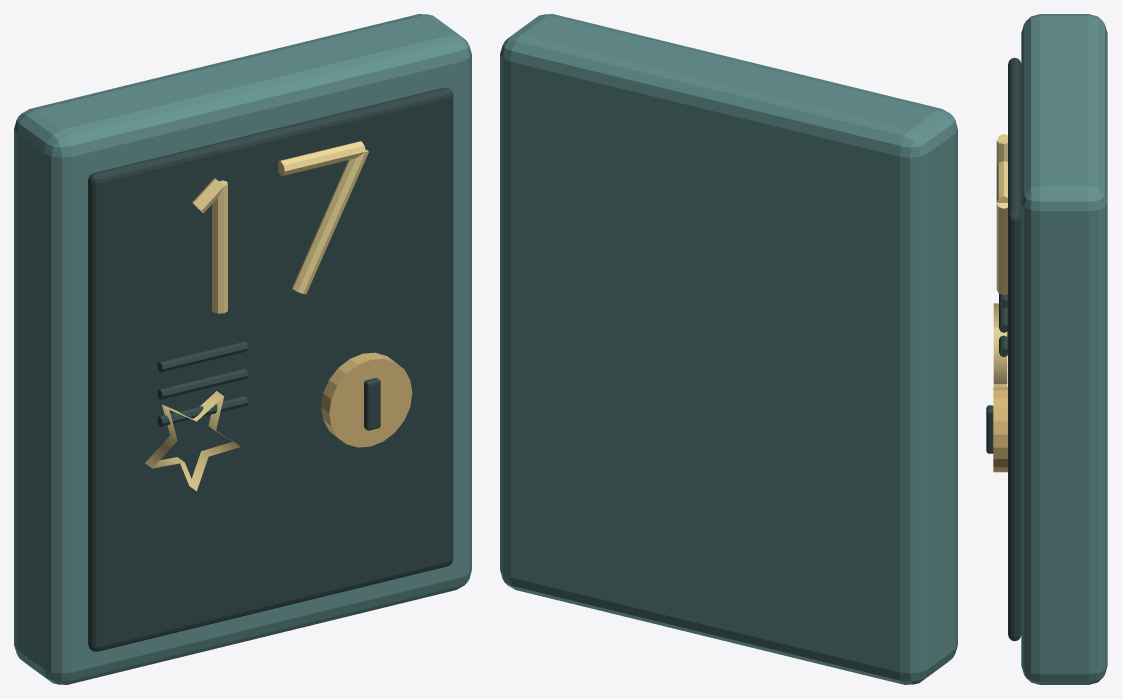
The model's file is locker-17-v1-BtAJudzI.glb.
The picture shows the model from 3 angles, left to right: view 1: azimuth 30°, elevation 25°; view 2: azimuth 150°, elevation 25°; view 3: azimuth 270°, elevation 25°; orthographic projection. The views are drawn at different scales.
Parts seen in each view (by area): view 1: Door inset, Locker door, Locker lock bezel, Seven slash, Locker star mark, One, Seven top, Vent 1, Vent 2, Vertical key slot, Vent 3; view 2: Locker door; view 3: Locker door, Door inset, Locker lock bezel, Seven slash, Locker star mark, Seven top, Vertical key slot, One, Vent 2.
Boxes of the visible parts, left/top/right/bottom form: Door inset: left=88, top=87, right=453, bottom=651; Locker door: left=14, top=14, right=471, bottom=684; Locker lock bezel: left=321, top=352, right=412, bottom=447; Seven slash: left=292, top=149, right=368, bottom=294; Locker star mark: left=145, top=391, right=240, bottom=491; One: left=212, top=180, right=227, bottom=313; Seven top: left=278, top=141, right=365, bottom=175; Vent 1: left=157, top=341, right=248, bottom=372; Vent 2: left=157, top=368, right=248, bottom=399; Vertical key slot: left=364, top=378, right=380, bottom=430; Vent 3: left=157, top=396, right=248, bottom=426; Locker door: left=500, top=14, right=957, bottom=684; Locker door: left=1021, top=14, right=1107, bottom=684; Door inset: left=1008, top=57, right=1021, bottom=641; Locker lock bezel: left=993, top=387, right=1007, bottom=472; Seven slash: left=996, top=203, right=1007, bottom=295; Locker star mark: left=993, top=303, right=1007, bottom=386; Seven top: left=996, top=161, right=1007, bottom=202; Vertical key slot: left=986, top=405, right=993, bottom=453; One: left=996, top=141, right=1007, bottom=166; Vent 2: left=999, top=304, right=1007, bottom=332.
Size of the model in its own units: 1.64 by 2.04 by 0.45.
